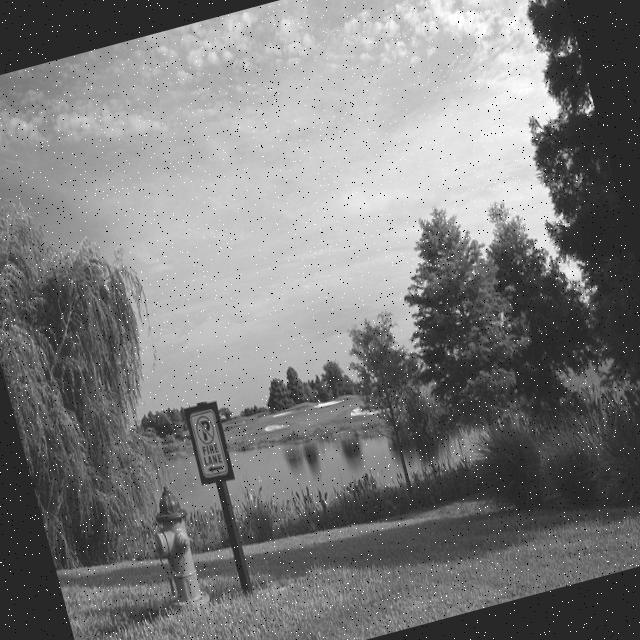fire_hydrant: (137, 480, 214, 624)
